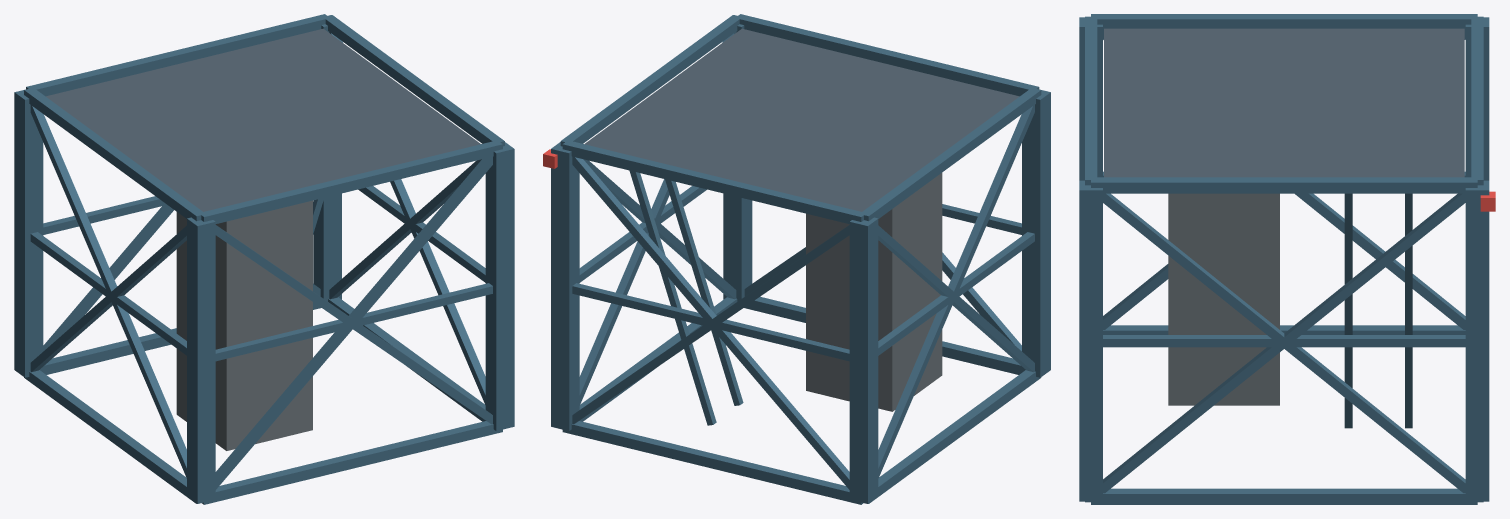
File: pad_gantry_segment.fbx
The picture shows the model from 3 angles, left to right: view 1: azimuth 30°, elevation 25°; view 2: azimuth 150°, elevation 25°; view 3: azimuth 270°, elevation 25°; orthographic projection. The views are drawn at different scales.
Visible parts, largest first — view 1: pad_gantry_segment; view 2: pad_gantry_segment; view 3: pad_gantry_segment.
Boxes of the visible parts, x1,y1,x2,y2 form: pad_gantry_segment: [14, 14, 514, 504]; pad_gantry_segment: [543, 14, 1050, 504]; pad_gantry_segment: [1079, 14, 1495, 504].
Bounding box in the file's own units: 9.7 × 8.29 × 9.7.
